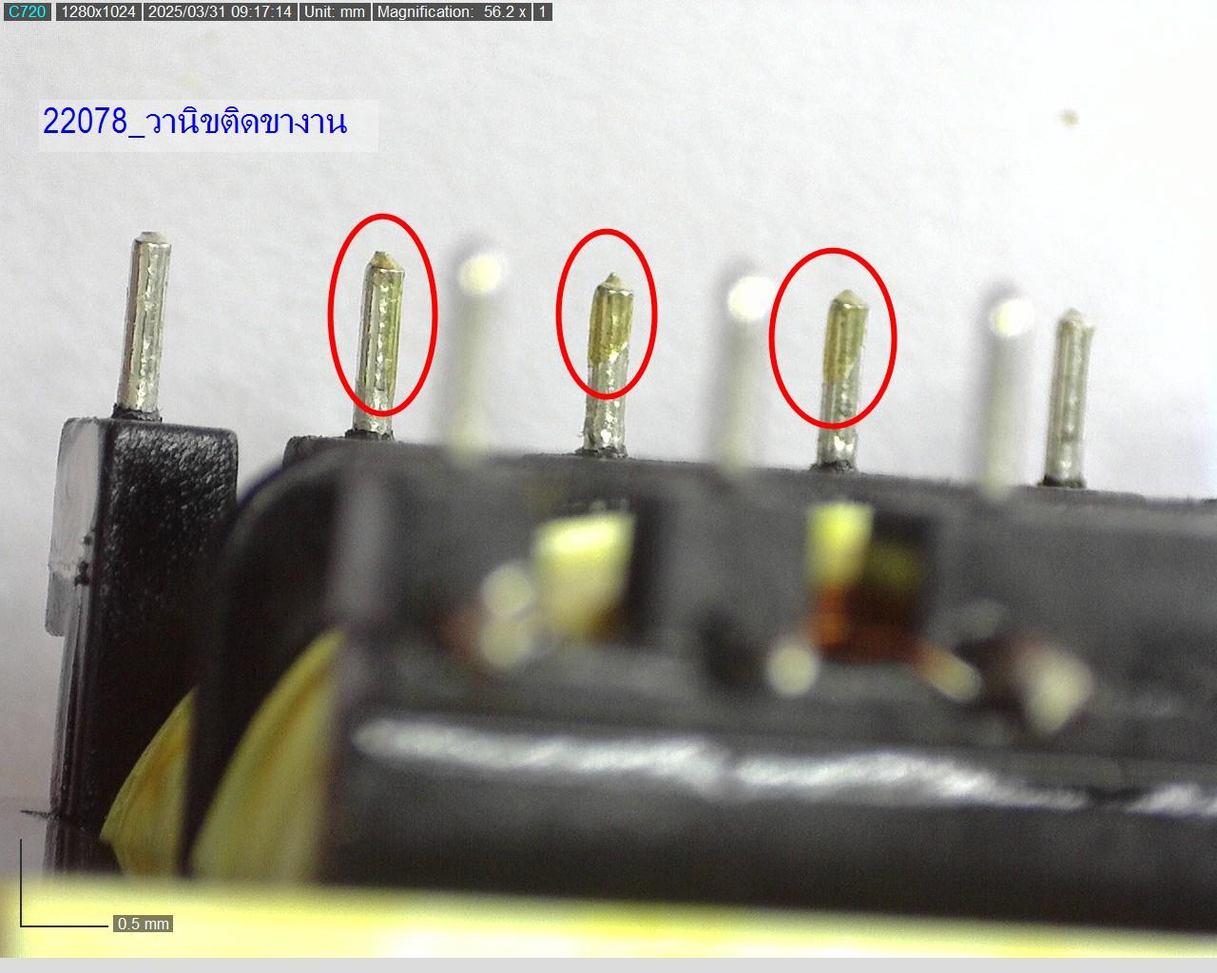solder ball: (350, 244, 410, 394), (579, 265, 638, 376), (818, 279, 865, 411)
